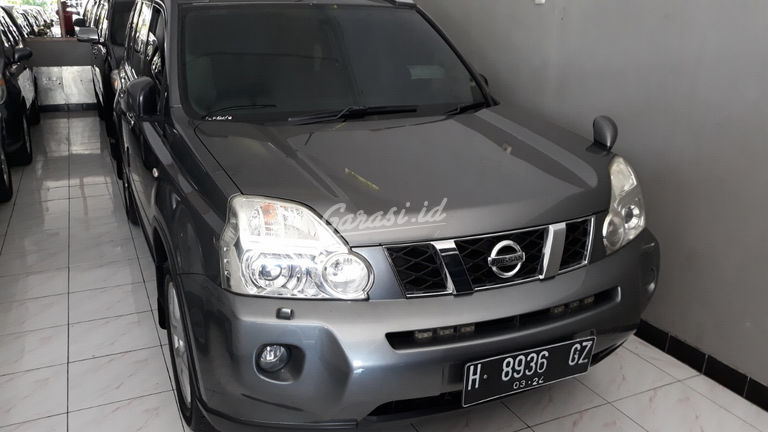plate: (464, 337, 591, 405)
